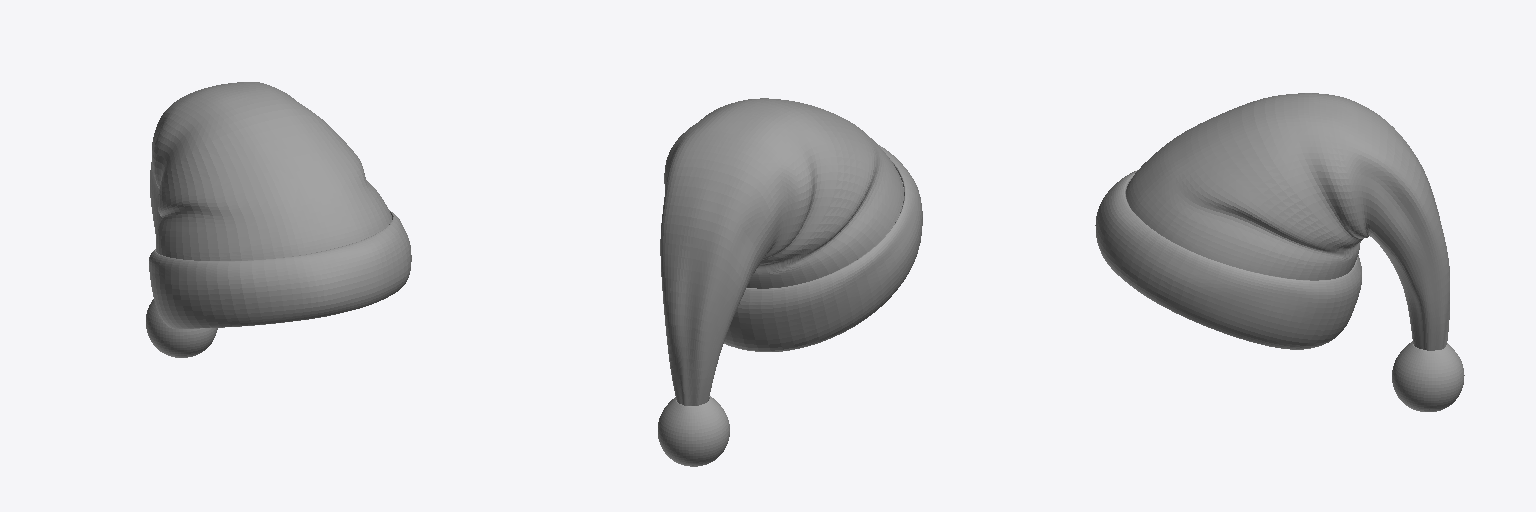
The picture shows the model from 3 angles: view 1: azimuth 30°, elevation 25°; view 2: azimuth 150°, elevation 25°; view 3: azimuth 270°, elevation 25°; orthographic projection.
Visible parts, largest first — view 1: fabric_Mat; view 2: fabric_Mat; view 3: fabric_Mat.
Part boxes in pixels (x1,y1,x2,y2): fabric_Mat: (146,82,411,357); fabric_Mat: (658,98,922,466); fabric_Mat: (1095,93,1464,411).
Bounding box in the file's own units: 25.67 × 33 × 36.22.